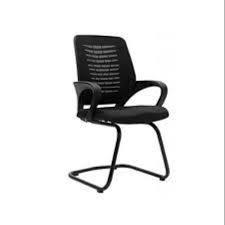chair: (58, 28, 184, 196)
